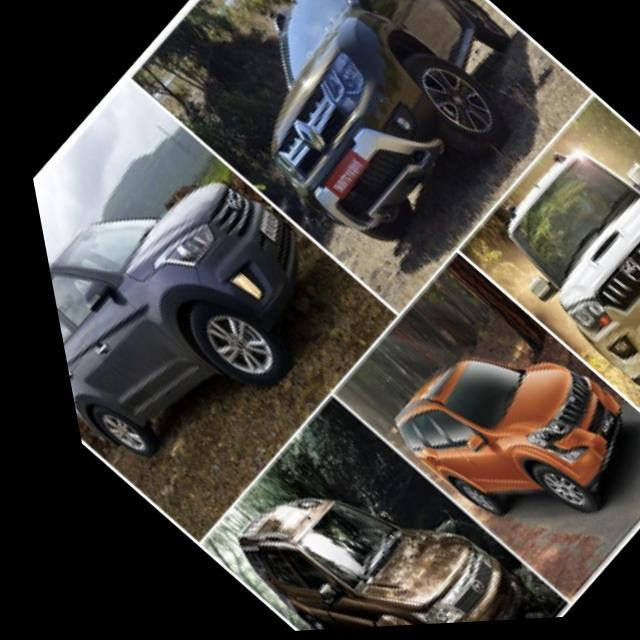license_plate: (560, 406, 610, 450), (611, 274, 640, 345)
